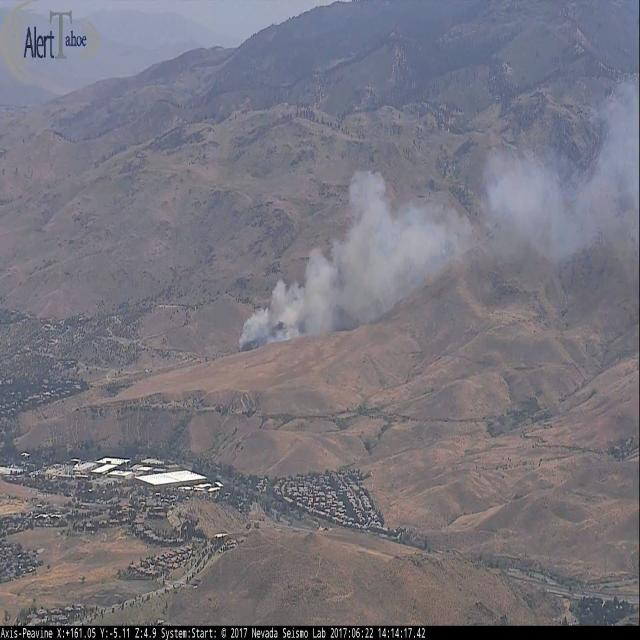smoke: (238, 165, 477, 356), (490, 82, 640, 276)
